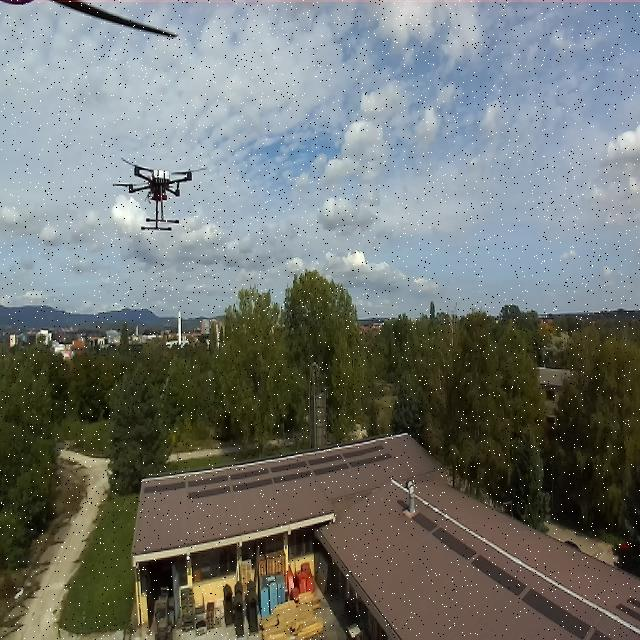UAV: (112, 152, 202, 230)
